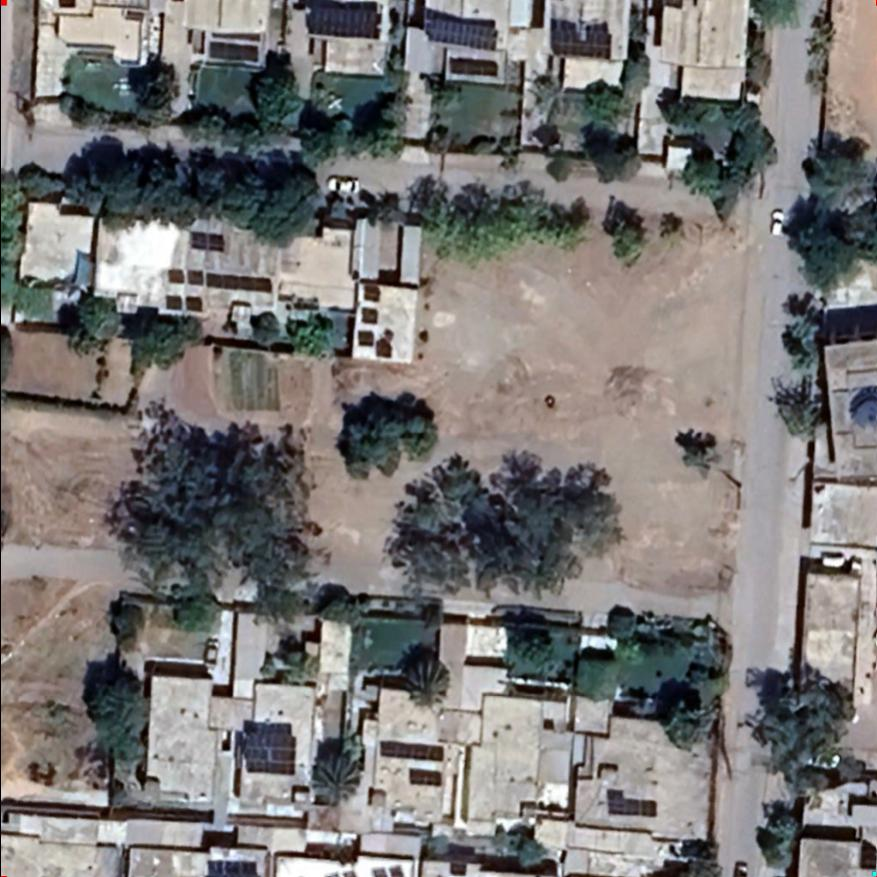Solarpanel: (544, 17, 618, 66), (419, 10, 499, 54), (304, 4, 381, 41), (165, 267, 277, 292), (357, 278, 384, 351), (205, 37, 262, 61), (448, 56, 502, 79), (186, 230, 228, 254), (162, 295, 204, 314), (372, 335, 393, 359)
